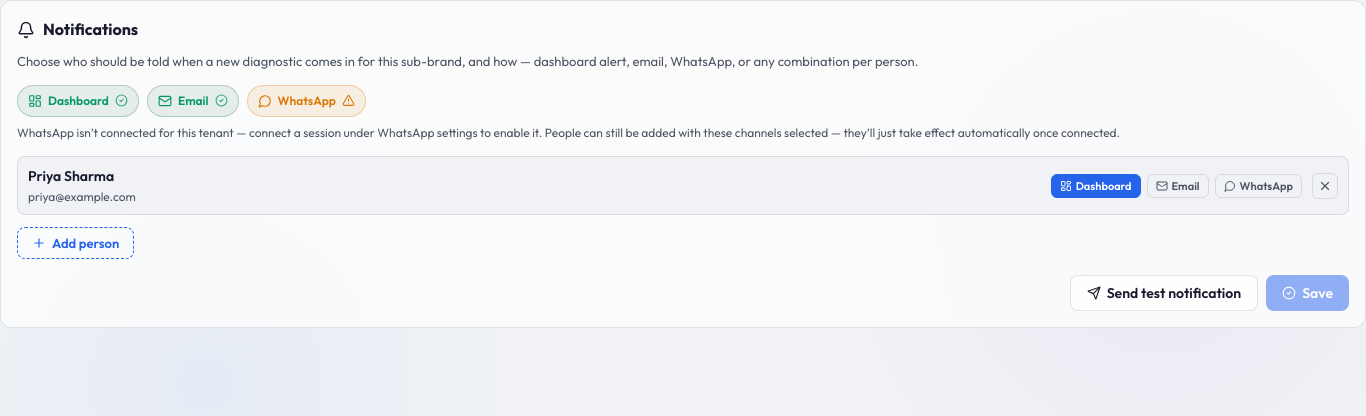
Scenario: DiagnosticNotificationPanel — recipients › already-added people are excluded from the add-person search results
This screenshot has width=1366, height=416.
Expected: the text "Priya Sharma" is shown, top-left (28, 167), bottom-right (114, 185)
Click the button "Add person".
click(76, 243)  # box top-left (17, 227), bottom-right (134, 259)
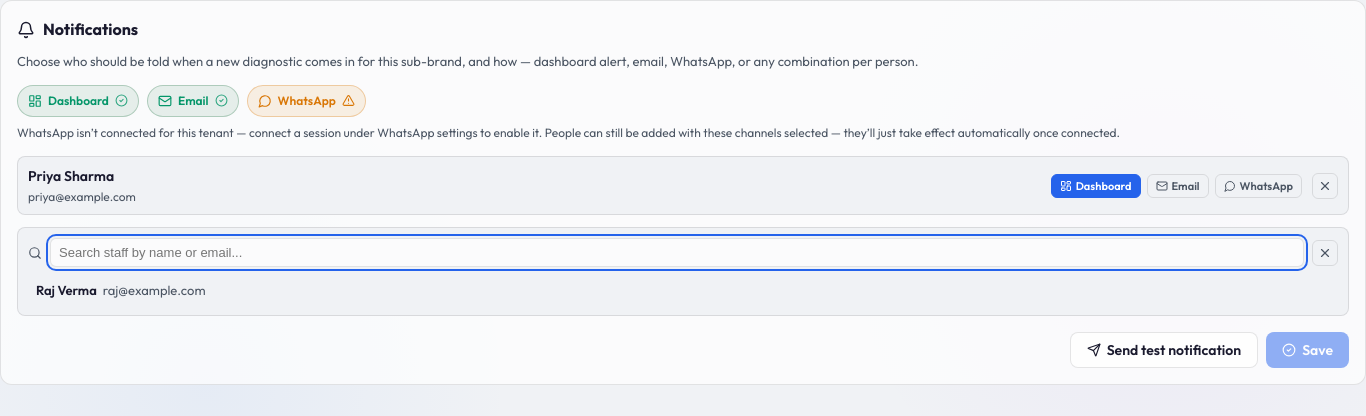
Expected: the field named "Search staff to add" is shown, top-left (50, 238), bottom-right (1304, 267)
Expected: the button "Raj Verma" is shown, top-left (28, 275), bottom-right (1338, 305)
